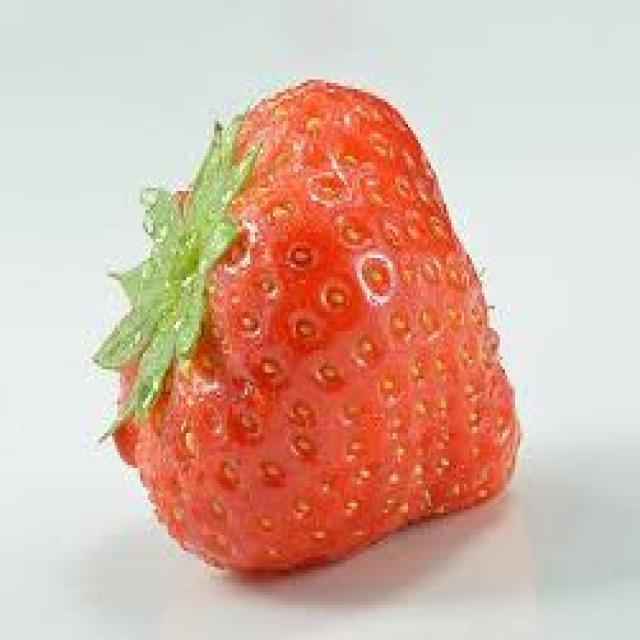strawberry: (106, 76, 535, 574)
